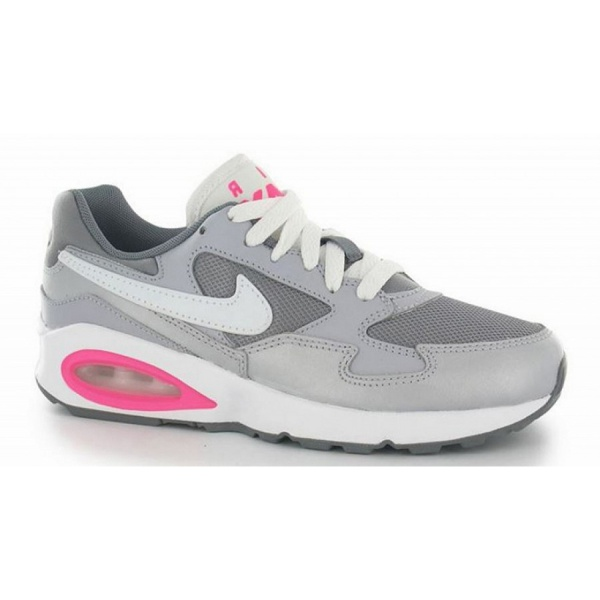nike: (57, 241, 276, 341)
